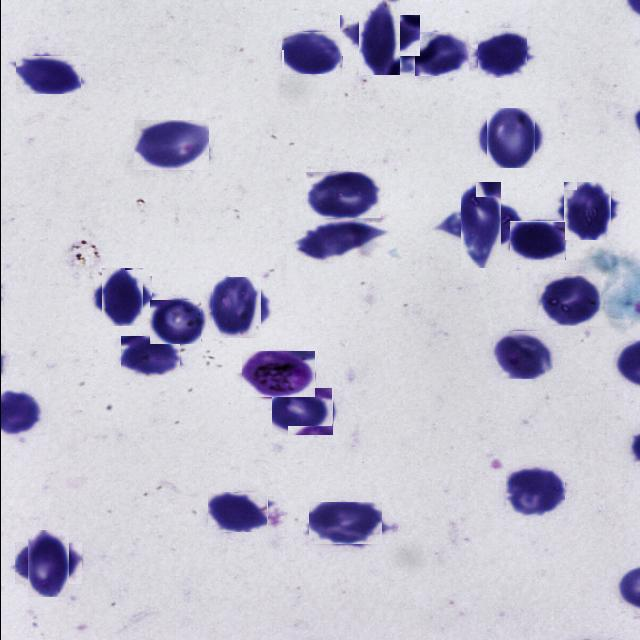gametocyte: (241, 350, 315, 397)
red blood cell: (448, 194, 512, 258), (133, 120, 208, 170), (348, 5, 408, 66), (305, 171, 381, 218), (295, 222, 383, 260), (537, 274, 600, 326), (308, 501, 382, 544), (208, 280, 263, 336), (482, 110, 537, 166), (492, 330, 553, 379), (270, 387, 332, 435), (20, 536, 75, 590), (505, 466, 564, 516), (560, 184, 613, 237), (281, 31, 342, 74), (15, 55, 81, 94), (477, 27, 527, 78), (97, 272, 147, 322), (120, 336, 179, 377), (207, 492, 267, 532), (414, 32, 468, 76), (149, 300, 200, 344), (509, 221, 565, 260)
